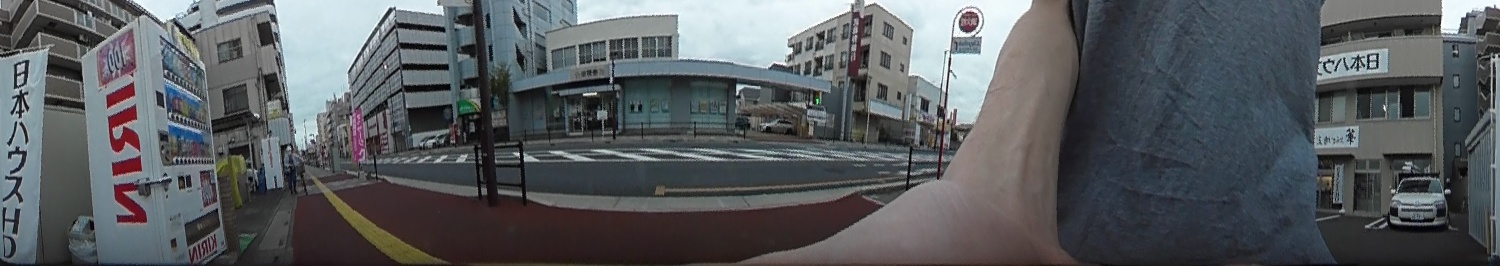person: (281, 143, 303, 190)
